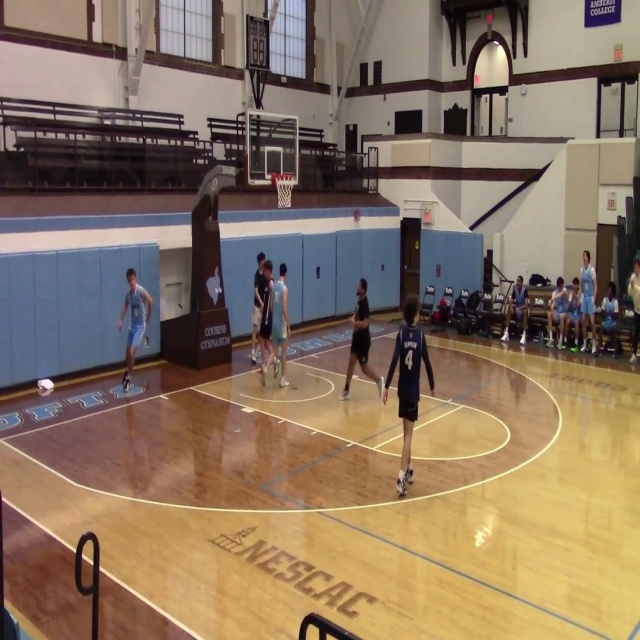Basketball: (37, 379, 54, 396)
